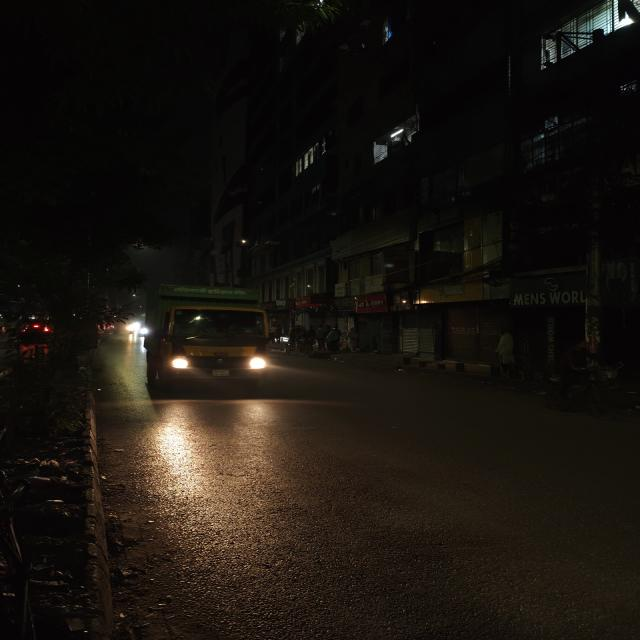pedestrian: (490, 328, 525, 380)
rickshaw: (281, 323, 314, 356)
truck: (140, 286, 274, 389)
